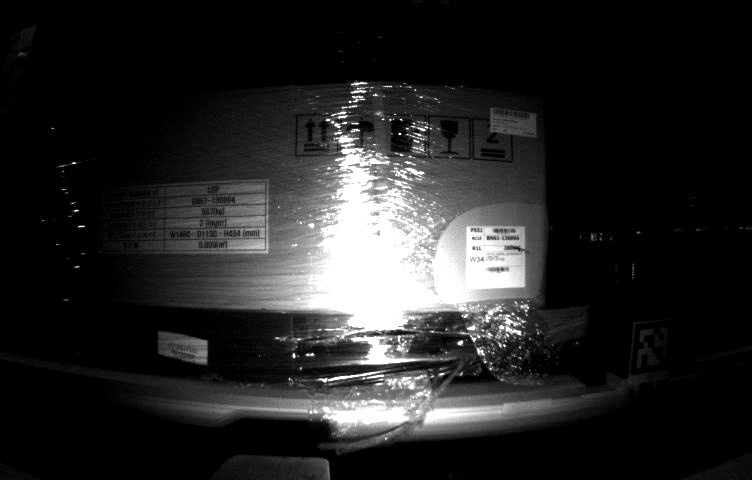True Barcode: (461, 224, 525, 291)
